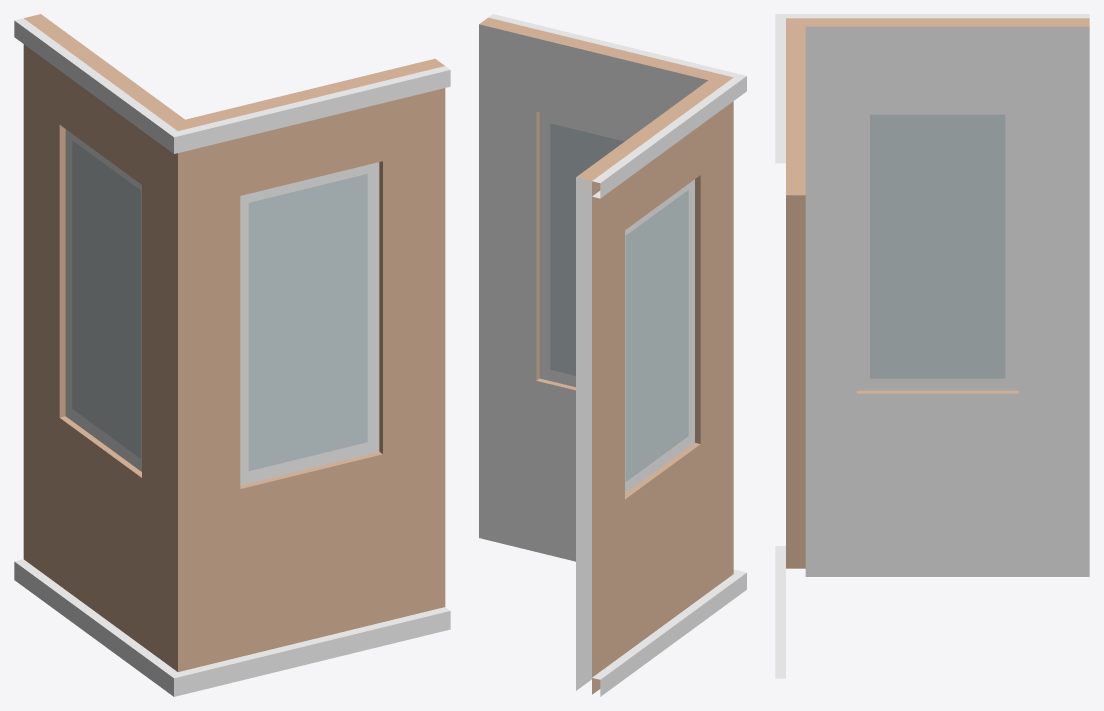
File: Wall01_corner_01.fbx
The picture shows the model from 3 angles, left to right: view 1: azimuth 30°, elevation 25°; view 2: azimuth 150°, elevation 25°; view 3: azimuth 270°, elevation 25°; orthographic projection. The views are drawn at different scales.
Parts seen in each view (by area): view 1: Cube.014; view 2: Cube.014; view 3: Cube.014.
Part boxes in pixels (bbox=[...]): Cube.014: bbox=[14, 14, 450, 696]; Cube.014: bbox=[479, 14, 746, 696]; Cube.014: bbox=[775, 14, 1089, 678].
Size of the model in its own units: 2.07 by 4 by 2.07.
